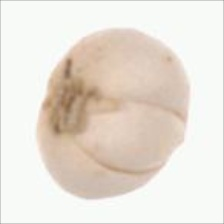L5: (72, 95, 189, 177), (37, 54, 91, 140)
L6: (34, 25, 194, 202)
